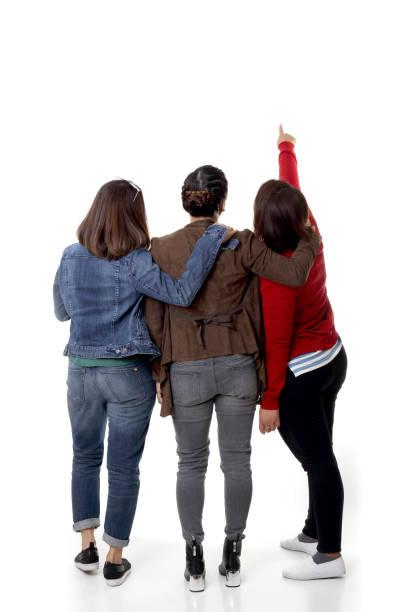jacket: (146, 231, 319, 416), (55, 225, 239, 359), (151, 221, 212, 279)
sweater: (257, 136, 342, 412)
trousers: (66, 354, 157, 548), (169, 354, 260, 543), (272, 349, 350, 554)
